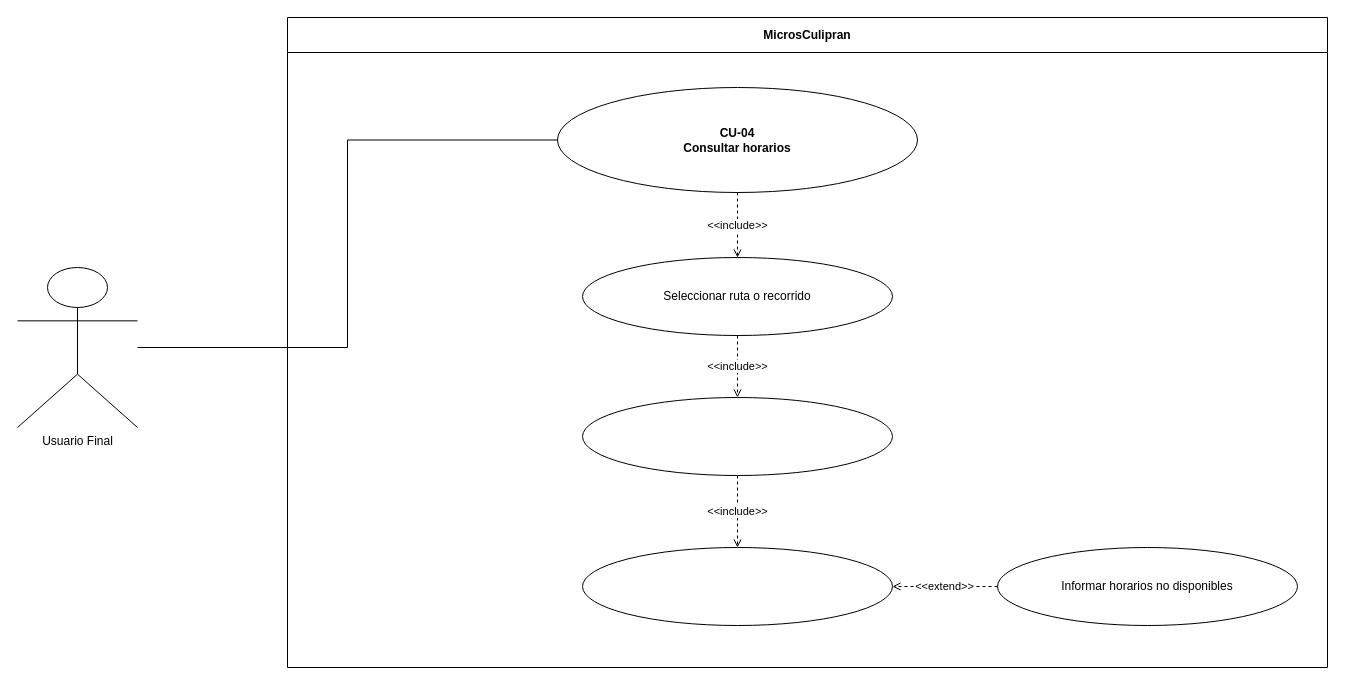
Some shapes in this 1345 by 685 pixel diagram are drawn without their labels. The shapes that lost their labels are listed below. From the top down, each one's box as (x1, y1, x2, y2) in pixels, then its label:
(582, 396, 892, 476): Consultar horarios registrados
(582, 546, 892, 626): Mostrar horarios
